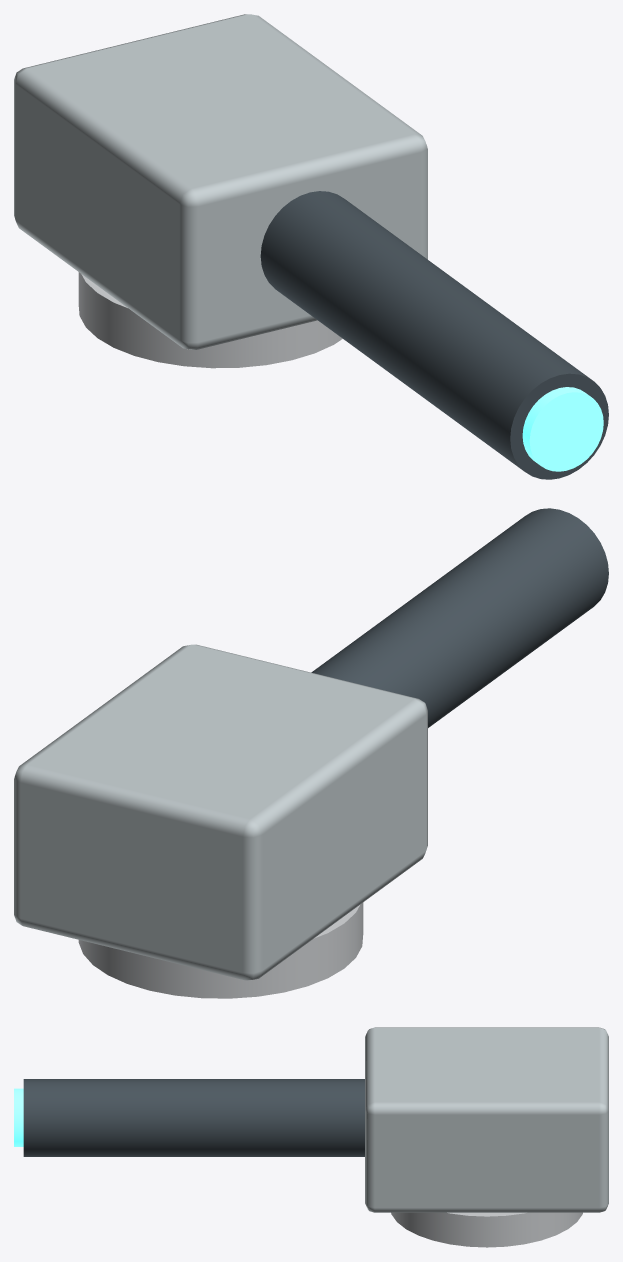
3 views of the same model, one above another, from view 1: azimuth 30°, elevation 25°; view 2: azimuth 150°, elevation 25°; view 3: azimuth 270°, elevation 25° (orthographic). The views are drawn at different scales.
Parts seen in each view (by area): view 1: mining-laser; view 2: mining-laser; view 3: mining-laser.
Boxes of the visible parts, left/top/right/bottom form: mining-laser: left=14, top=14, right=608, bottom=479; mining-laser: left=14, top=508, right=608, bottom=998; mining-laser: left=14, top=1027, right=608, bottom=1247.
Bounding box in the file's own units: 0.8 × 0.6399 × 2.44.
